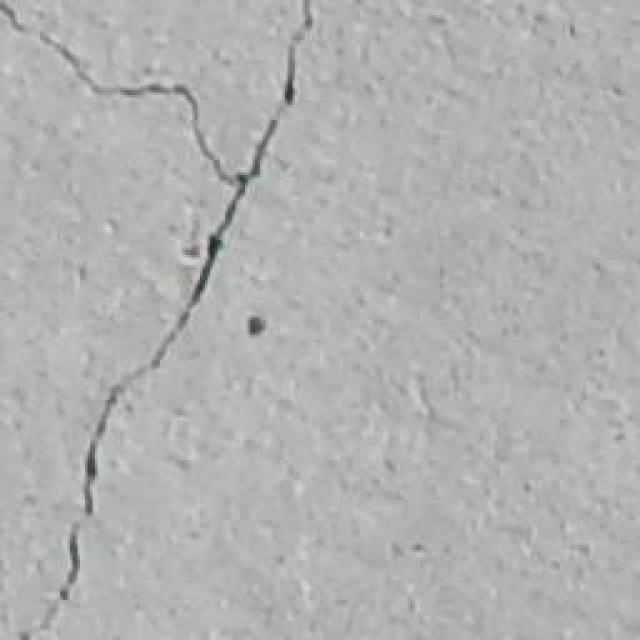concrete-crack: (0, 0, 318, 640)
